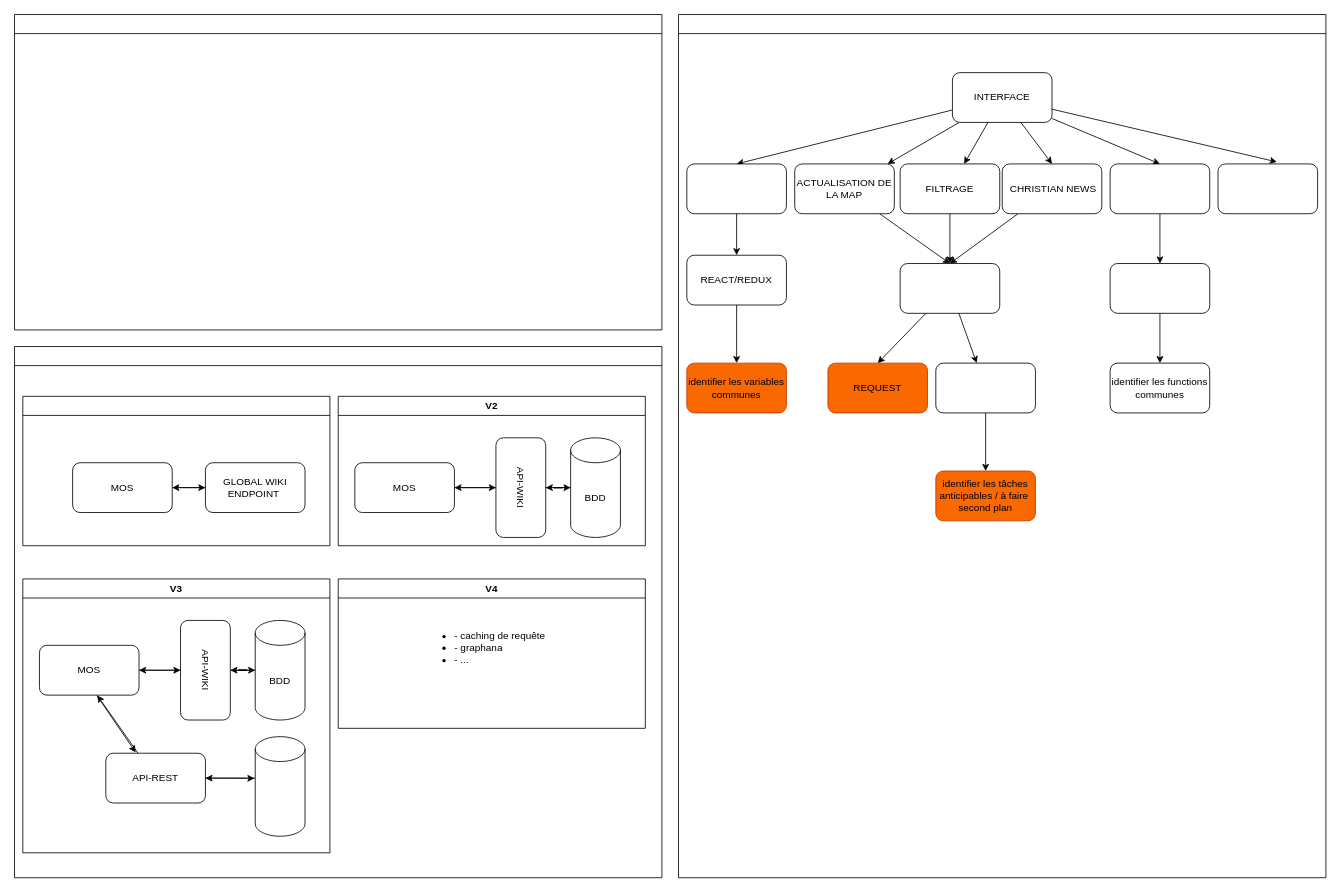
This 1340x892 diagram has some shape labels left out. The box of each missing label's shape, as (x1, y1, x2, y2) in pixels:
ARCHI LOGICIEL: (678, 14, 1326, 878)
ARCHI TECHNIQUE: (14, 346, 662, 878)
BDD (carte construite): (254, 736, 305, 836)
COMPONENTS: (1109, 263, 1210, 313)
FUNCTIONNAL ARCHITECTURE: (14, 14, 662, 330)
INTERFACE FEATURES: (1109, 163, 1210, 214)
IOBOUD: (899, 263, 1000, 313)
MODULATION REACTIVE DE l'INTERFACE: (686, 163, 786, 214)
V1: (22, 395, 330, 546)
WORKERS: (935, 362, 1035, 413)
